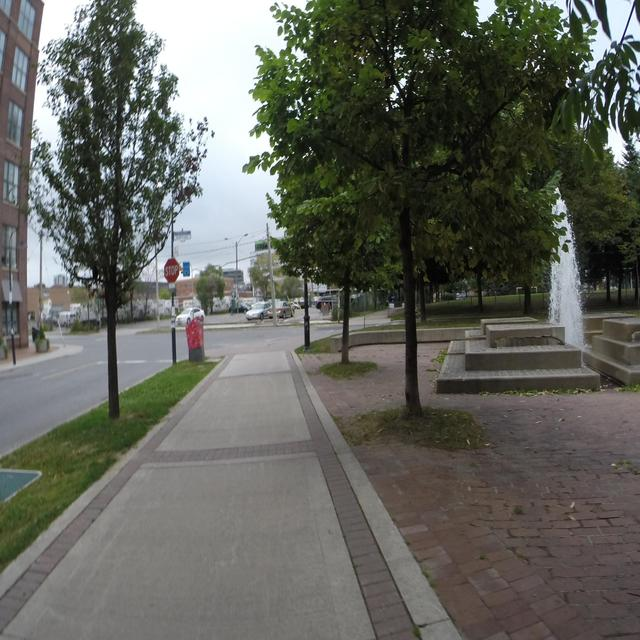Bicycle: (415, 304, 420, 318)
Billboard: (183, 297, 254, 307), (319, 302, 331, 316), (43, 298, 51, 310), (147, 302, 151, 315)
Car: (175, 307, 205, 325), (316, 295, 337, 309)
Manhole: (0, 471, 41, 506)
Trash Can: (185, 315, 205, 361), (385, 296, 395, 306), (32, 327, 38, 342)
Vegetation: (196, 251, 269, 315), (0, 321, 50, 358)
